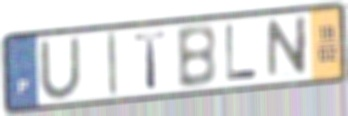B: (174, 22, 219, 91)
I: (105, 29, 119, 99)
L: (224, 22, 260, 83)
N: (265, 14, 310, 82)
T: (132, 29, 169, 91)
U: (37, 35, 84, 101)
